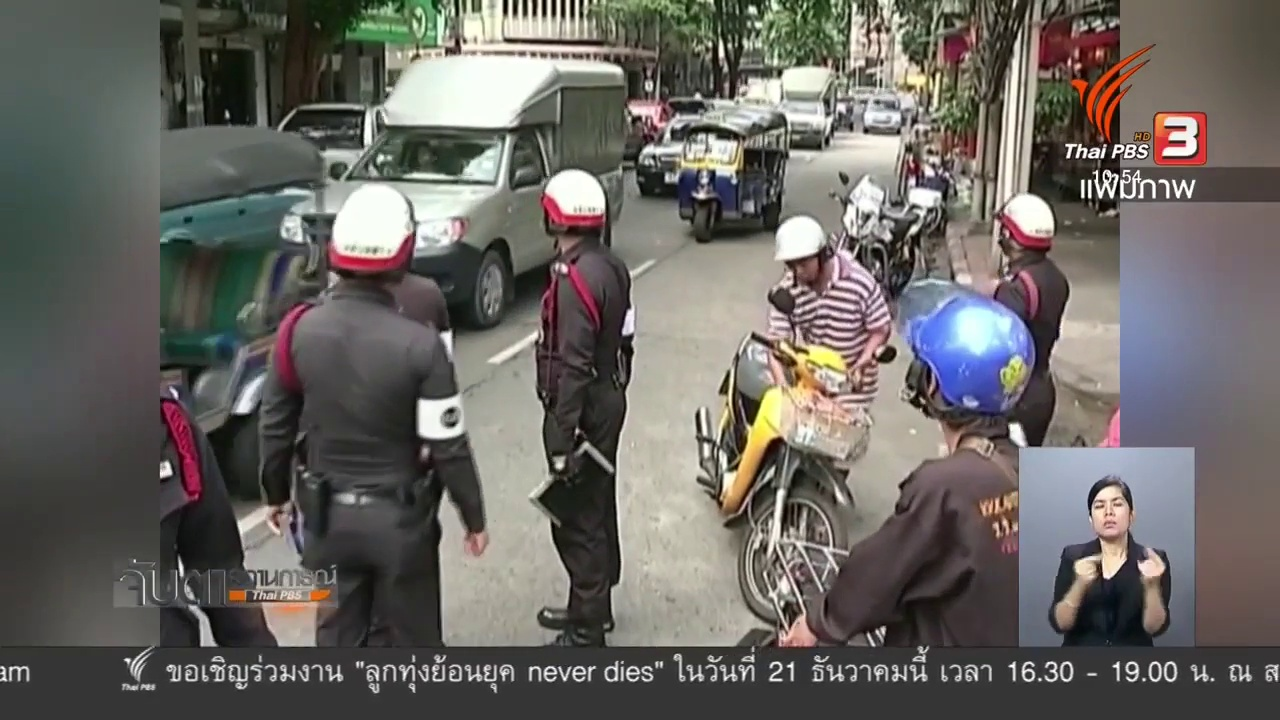helmet: (894, 263, 1034, 416), (330, 181, 414, 266), (993, 188, 1056, 261), (534, 167, 607, 227), (765, 210, 830, 275)
